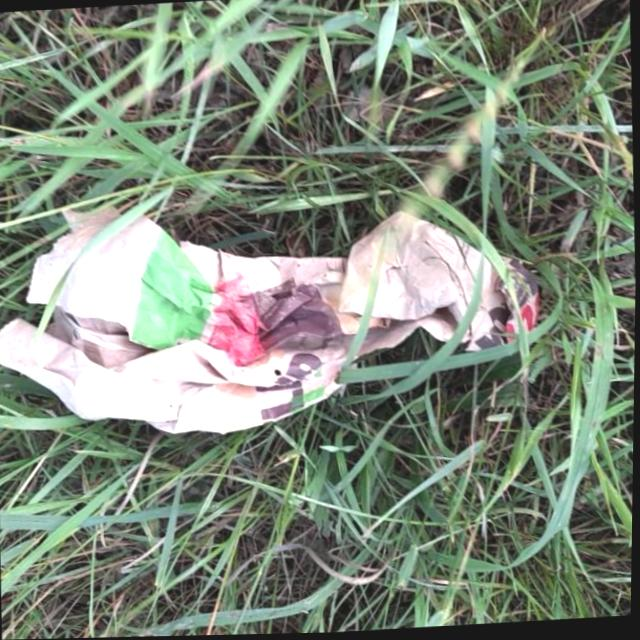Paper: (0, 175, 548, 450)
